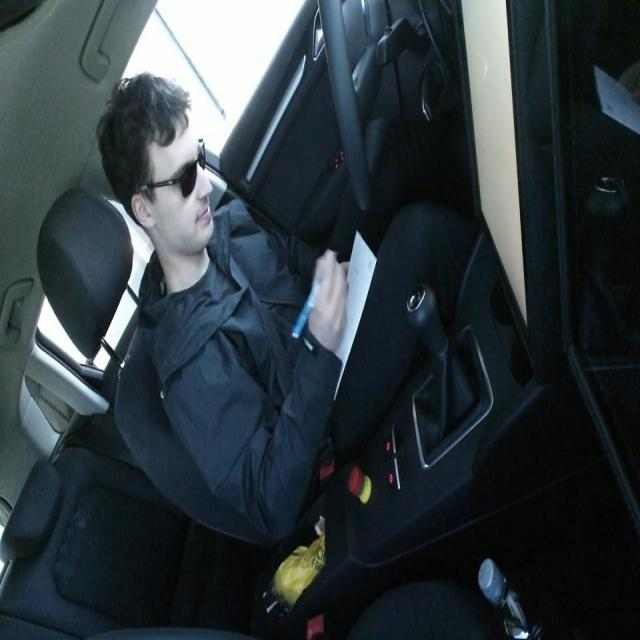pen: (290, 248, 340, 340)
